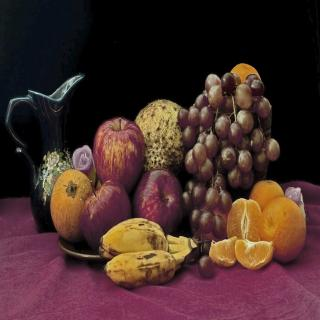Apple: (78, 174, 140, 250), (93, 114, 147, 191), (133, 170, 189, 238)
Banana: (103, 251, 198, 291), (98, 218, 190, 259), (99, 221, 192, 254)
Grape: (178, 72, 280, 278), (199, 257, 213, 278)
